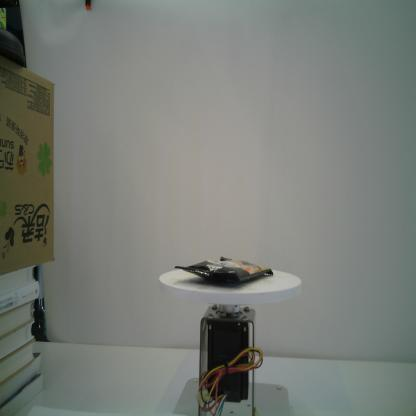Instant Drink: (174, 256, 273, 286)
